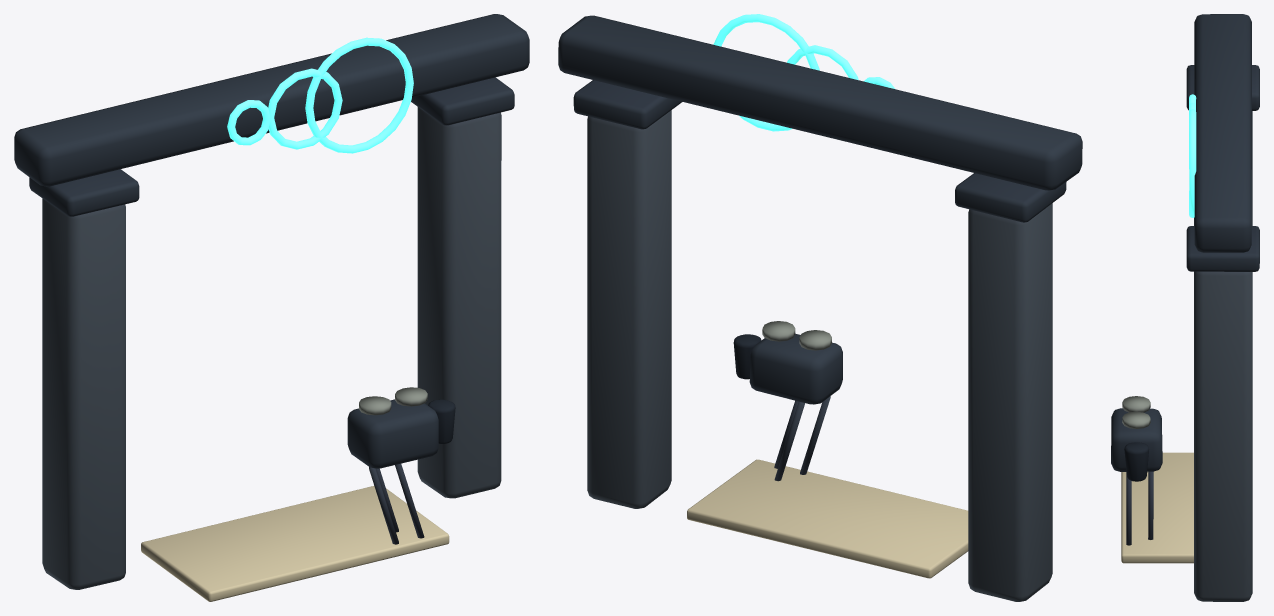
3 renders of one model, left to right at view 1: azimuth 30°, elevation 25°; view 2: azimuth 150°, elevation 25°; view 3: azimuth 270°, elevation 25°, orthographic. The views are drawn at different scales.
Visible parts, largest first — view 1: gate_d02a9971; view 2: gate_d02a9971; view 3: gate_d02a9971.
Part boxes in pixels (<box>): gate_d02a9971: <box>14,14,529,601</box>; gate_d02a9971: <box>558,14,1082,601</box>; gate_d02a9971: <box>1111,14,1259,601</box>.
Size of the model in its own units: 4.89 by 4.64 by 1.46.
